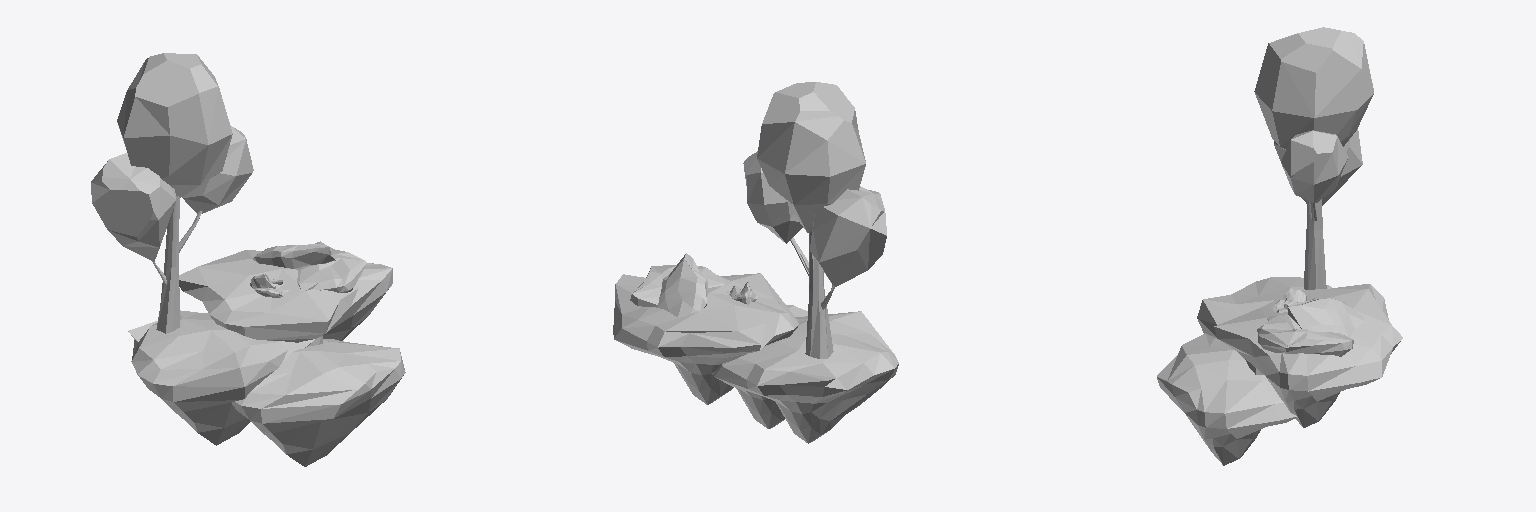
File: island_02_2.obj
The picture shows the model from 3 angles: view 1: azimuth 30°, elevation 25°; view 2: azimuth 150°, elevation 25°; view 3: azimuth 270°, elevation 25°; orthographic projection.
Parts seen in each view (by area): view 1: obj0; view 2: obj0; view 3: obj0.
Part boxes in pixels (x1,y1,x2,y2): obj0: (91, 53, 405, 466); obj0: (613, 82, 898, 443); obj0: (1157, 27, 1402, 465).
Size of the model in its own units: 7.79 by 10.31 by 5.89.